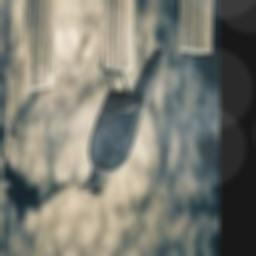Crow: (79, 48, 165, 200)
